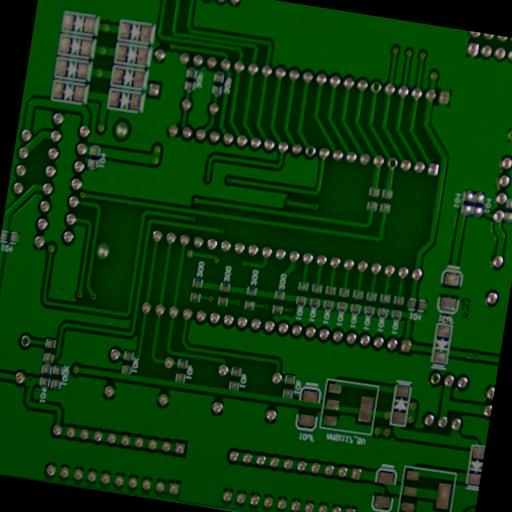missing_hole: (427, 372, 442, 386), (368, 79, 382, 93), (19, 334, 31, 349), (304, 144, 316, 158), (386, 156, 398, 170)
